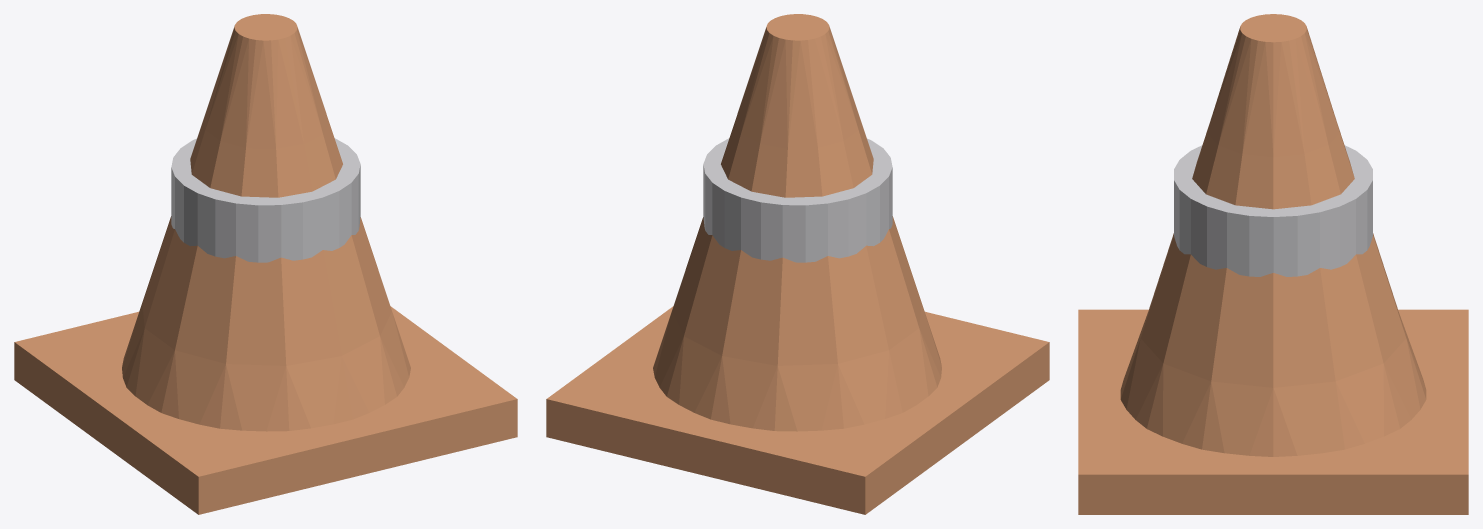
The picture shows the model from 3 angles, left to right: view 1: azimuth 30°, elevation 25°; view 2: azimuth 150°, elevation 25°; view 3: azimuth 270°, elevation 25°; orthographic projection. The views are drawn at different scales.
Visible parts, largest first — view 1: cone; view 2: cone; view 3: cone.
Boxes of the visible parts, x1,y1,x2,y2 form: cone: [14, 14, 517, 514]; cone: [546, 14, 1049, 514]; cone: [1078, 14, 1468, 514].
Bounding box in the file's own units: 0.7 × 0.8 × 0.7.
